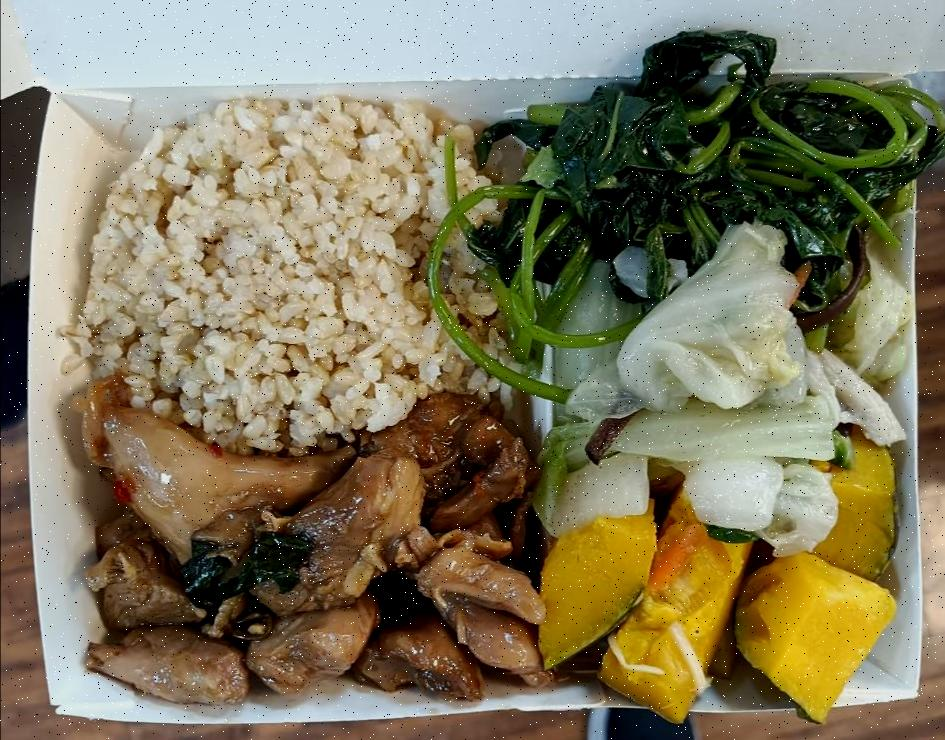big grilled chicken leg: (4, 77, 940, 721)
box: (84, 96, 512, 448)
braised fish fillet: (501, 29, 932, 292), (532, 232, 910, 518), (542, 447, 900, 714)
braised pork: (62, 400, 541, 706)
